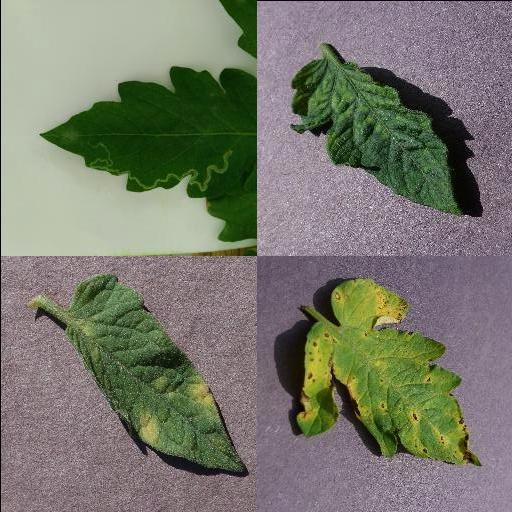Leaf Miner: (37, 65, 256, 197)
Leaf Mold: (64, 273, 246, 473)
Mosaic Virus: (286, 56, 462, 218)
Septoria: (293, 279, 479, 466)
